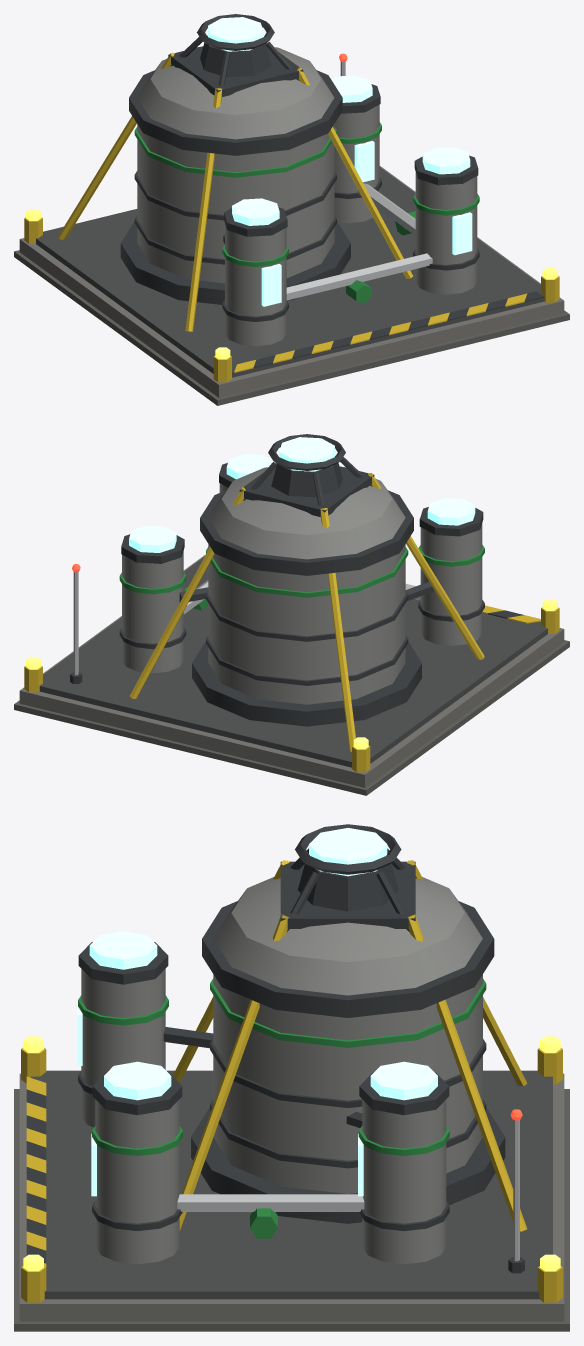
File: extractor_lod1.glb
3 views of the same model, one above another, from view 1: azimuth 30°, elevation 25°; view 2: azimuth 150°, elevation 25°; view 3: azimuth 270°, elevation 25° (orthographic). The views are drawn at different scales.
Visible parts, largest first — view 1: Extractor_LOD1_Foundation, Extractor_LOD1_Walls, Extractor_LOD1_Details, Extractor_LOD1_Frame; view 2: Extractor_LOD1_Walls, Extractor_LOD1_Foundation, Extractor_LOD1_Frame, Extractor_LOD1_Details; view 3: Extractor_LOD1_Foundation, Extractor_LOD1_Walls, Extractor_LOD1_Details, Extractor_LOD1_Frame.
Part boxes in pixels (x1,y1,x2,y2): Extractor_LOD1_Foundation: (14, 166, 569, 405); Extractor_LOD1_Walls: (137, 47, 477, 346); Extractor_LOD1_Details: (134, 14, 479, 321); Extractor_LOD1_Frame: (58, 43, 412, 331); Extractor_LOD1_Walls: (122, 467, 482, 704); Extractor_LOD1_Foundation: (14, 554, 569, 795); Extractor_LOD1_Frame: (129, 463, 484, 751); Extractor_LOD1_Details: (70, 434, 484, 685); Extractor_LOD1_Foundation: (14, 1036, 569, 1331); Extractor_LOD1_Walls: (81, 877, 482, 1264); Extractor_LOD1_Details: (77, 824, 524, 1273); Extractor_LOD1_Frame: (173, 860, 527, 1231).
Size of the model in its own units: 1.98 by 1.36 by 1.98.
